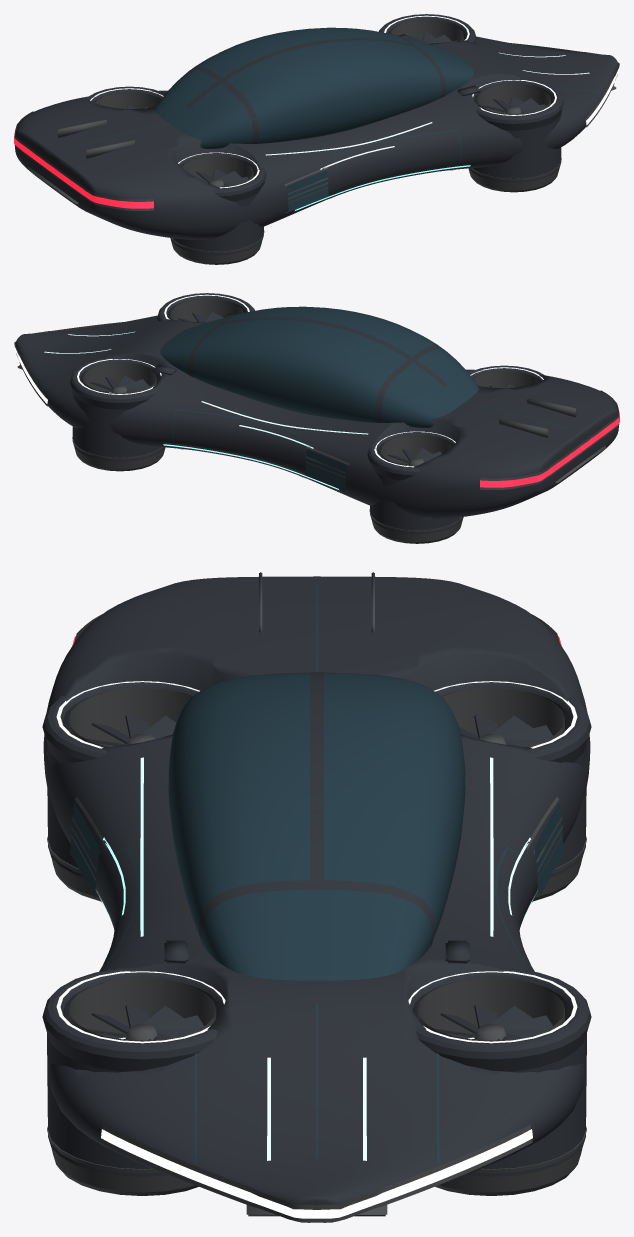
File: hover161.glb
3 renders of one model, top to bottom at view 1: azimuth 30°, elevation 25°; view 2: azimuth 150°, elevation 25°; view 3: azimuth 270°, elevation 25°, orthographic. The views are drawn at different scales.
Visible parts, largest first — view 1: h161-body, h161-glass, h161-cowl.001, h161-cowl.003, h161-liner.001, h161-liner.003, h161-cowl-low.003, h161-cowl-low.001, h161-liner, h161-intake, h161-tail, h161-spine (+11 smaller); view 2: h161-body, h161-glass, h161-cowl, h161-cowl.002, h161-liner, h161-liner.002, h161-cowl-low.002, h161-cowl-low, h161-liner.001, h161-intake.001, h161-tail, h161-spine (+11 smaller); view 3: h161-body, h161-glass, h161-cowl, h161-cowl.001, h161-liner, h161-liner.001, h161-head-housing, h161-head, h161-liner.003, h161-cowl.003, h161-cowl.002, h161-liner.002 (+12 smaller).
Part boxes in pixels (box(x1,y1,x2,y2)): h161-body: box(15, 36, 618, 239); h161-glass: box(155, 27, 473, 148); h161-cowl.001: box(469, 78, 563, 182); h161-cowl.003: box(170, 153, 266, 255); h161-liner.001: box(477, 83, 550, 114); h161-liner.003: box(181, 156, 253, 187); h161-cowl-low.003: box(171, 230, 264, 264); h161-cowl-low.001: box(468, 158, 561, 192); h161-liner: box(390, 19, 463, 42); h161-intake: box(287, 170, 328, 211); h161-tail: box(14, 130, 153, 208); h161-spine: box(186, 38, 414, 107); h161-body: box(15, 315, 618, 518); h161-glass: box(160, 306, 478, 427); h161-cowl: box(70, 357, 164, 461); h161-cowl.002: box(367, 432, 463, 534); h161-liner: box(83, 362, 156, 393); h161-liner.002: box(380, 435, 452, 466); h161-cowl-low.002: box(369, 509, 462, 543); h161-cowl-low: box(72, 437, 165, 471); h161-liner.001: box(170, 298, 243, 321); h161-intake.001: box(305, 449, 346, 490); h161-tail: box(480, 408, 619, 487); h161-spine: box(219, 317, 447, 386); h161-body: box(43, 576, 590, 1205); h161-glass: box(168, 673, 465, 980); h161-cowl: box(410, 967, 591, 1176); h161-cowl.001: box(42, 967, 223, 1176); h161-liner: box(417, 978, 564, 1041); h161-liner.001: box(69, 978, 216, 1041); h161-head-housing: box(101, 1124, 532, 1222); h161-head: box(101, 1129, 532, 1218); h161-liner.003: box(69, 688, 192, 747); h161-cowl.003: box(42, 682, 198, 877); h161-cowl.002: box(435, 682, 591, 877); h161-liner.002: box(441, 688, 564, 747).
Bounding box in the file's own units: 4.63 × 1.08 × 1.95.
